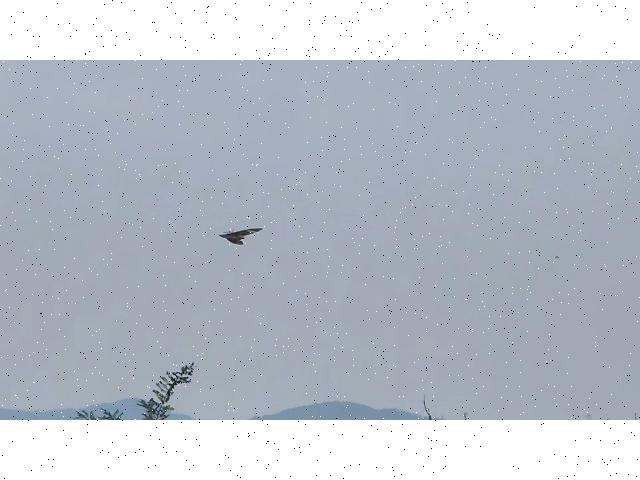Anti-Drone: (218, 226, 264, 245)
